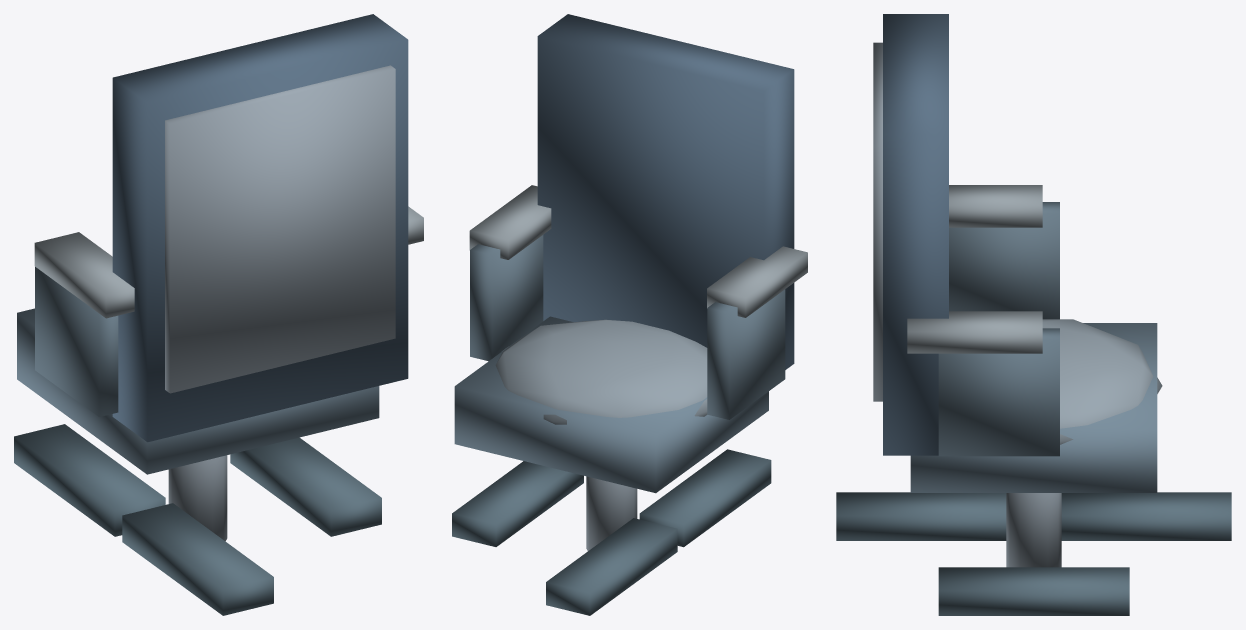
File: f3a-chair.glb
The picture shows the model from 3 angles, left to right: view 1: azimuth 30°, elevation 25°; view 2: azimuth 150°, elevation 25°; view 3: azimuth 270°, elevation 25°; orthographic projection. The views are drawn at different scales.
Parts seen in each view (by area): view 1: f3a-chair-part-007, f3a-chair-part-006, f3a-chair-part-004, f3a-chair-part-002, f3a-chair-part-008, f3a-chair-part-003, f3a-chair-part-001, f3a-chair-part-009, f3a-chair-part-000; view 2: f3a-chair-part-006, f3a-chair-part-004, f3a-chair-part-005, f3a-chair-part-008, f3a-chair-part-010, f3a-chair-part-003, f3a-chair-part-002, f3a-chair-part-001, f3a-chair-part-009, f3a-chair-part-011, f3a-chair-part-000; view 3: f3a-chair-part-006, f3a-chair-part-004, f3a-chair-part-010, f3a-chair-part-008, f3a-chair-part-001, f3a-chair-part-002, f3a-chair-part-003, f3a-chair-part-005, f3a-chair-part-011, f3a-chair-part-000, f3a-chair-part-009, f3a-chair-part-007.
Part boxes in pixels (x1,y1,x2,y2): f3a-chair-part-007: [165, 65, 395, 393]; f3a-chair-part-006: [112, 14, 408, 442]; f3a-chair-part-004: [17, 308, 379, 474]; f3a-chair-part-002: [122, 503, 273, 615]; f3a-chair-part-008: [35, 267, 118, 416]; f3a-chair-part-003: [14, 424, 165, 536]; f3a-chair-part-001: [230, 437, 381, 536]; f3a-chair-part-009: [34, 232, 134, 318]; f3a-chair-part-000: [168, 455, 227, 541]; f3a-chair-part-006: [537, 14, 794, 369]; f3a-chair-part-004: [454, 316, 768, 493]; f3a-chair-part-005: [495, 319, 707, 424]; f3a-chair-part-008: [707, 289, 785, 419]; f3a-chair-part-010: [470, 235, 543, 361]; f3a-chair-part-003: [546, 518, 677, 615]; f3a-chair-part-002: [639, 449, 771, 547]; f3a-chair-part-001: [452, 461, 583, 546]; f3a-chair-part-009: [707, 246, 807, 317]; f3a-chair-part-011: [469, 185, 551, 259]; f3a-chair-part-000: [586, 476, 637, 550]; f3a-chair-part-006: [883, 14, 948, 455]; f3a-chair-part-004: [910, 323, 1157, 492]; f3a-chair-part-010: [938, 328, 1059, 456]; f3a-chair-part-008: [949, 202, 1059, 319]; f3a-chair-part-001: [938, 567, 1129, 615]; f3a-chair-part-002: [836, 492, 1006, 540]; f3a-chair-part-003: [1061, 492, 1231, 540]; f3a-chair-part-005: [1042, 319, 1162, 444]; f3a-chair-part-011: [907, 311, 1042, 353]; f3a-chair-part-000: [1006, 493, 1061, 567]; f3a-chair-part-009: [949, 185, 1042, 227]; f3a-chair-part-007: [873, 42, 882, 401].
Bounding box in the file's own units: 1 × 1.58 × 1.14.
